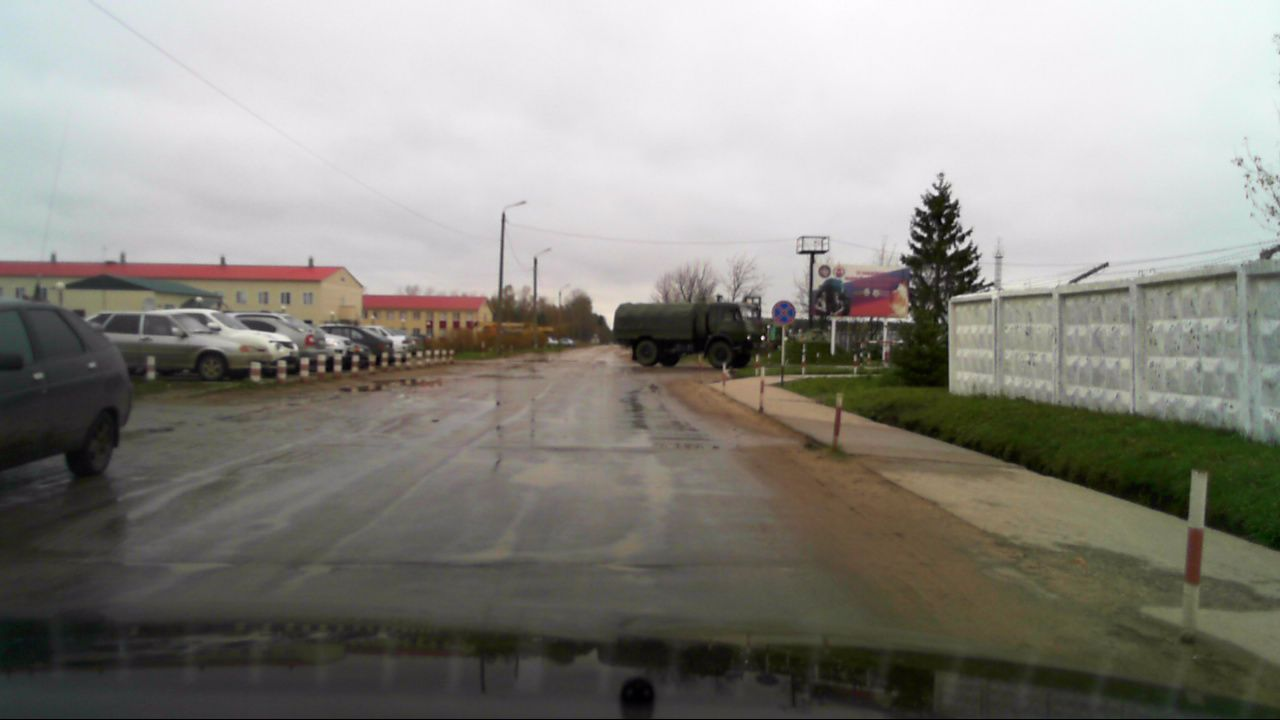No Parking: (770, 300, 796, 325)
